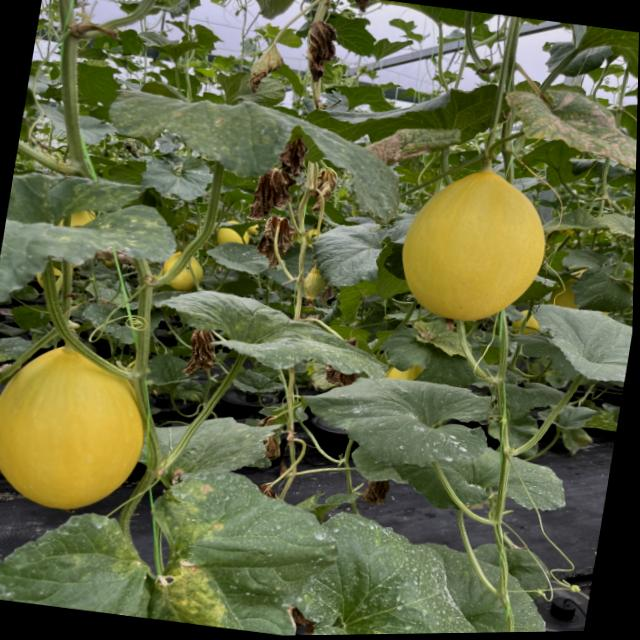CMV: (106, 65, 382, 210)
alternaria leaf blight: (0, 443, 320, 640), (192, 282, 391, 393), (492, 79, 638, 185), (409, 315, 474, 360), (0, 545, 14, 601)
bacterial wilt: (362, 121, 455, 174), (179, 321, 225, 379), (246, 167, 289, 221), (302, 25, 342, 80), (246, 42, 286, 97), (305, 165, 342, 211), (278, 138, 306, 180)
downy mildew: (0, 166, 181, 312)
healthy: (556, 22, 639, 89)
powdery mildew: (287, 508, 494, 636), (295, 366, 498, 477), (541, 308, 633, 401)
